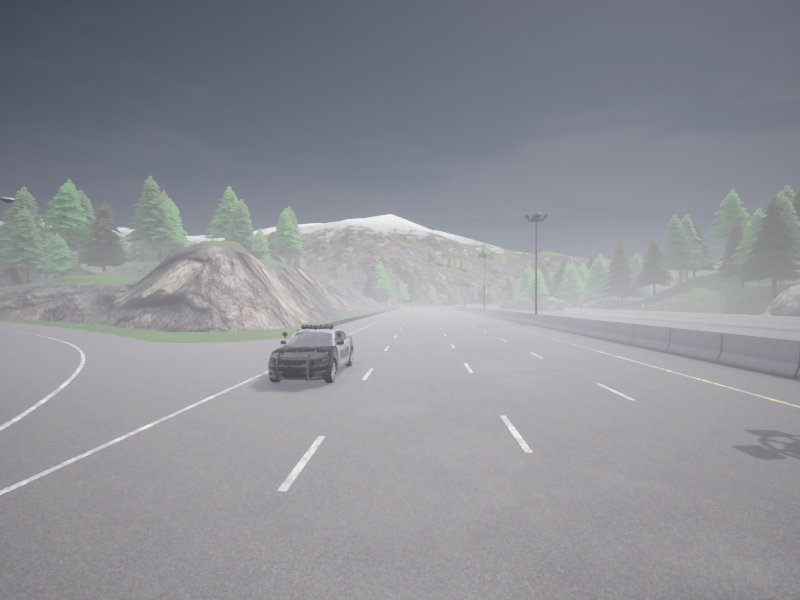vehicle: (268, 325, 353, 382), (490, 304, 492, 306)
